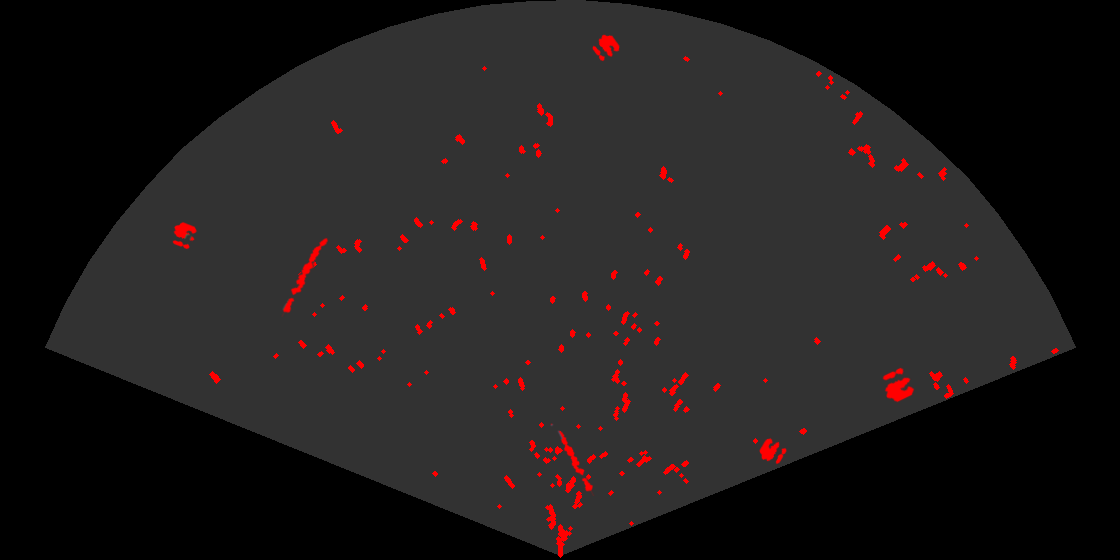ball: (881, 366, 916, 404), (758, 436, 788, 466), (591, 33, 621, 63), (171, 220, 199, 251)
chain: (280, 236, 330, 317), (549, 422, 596, 496)
